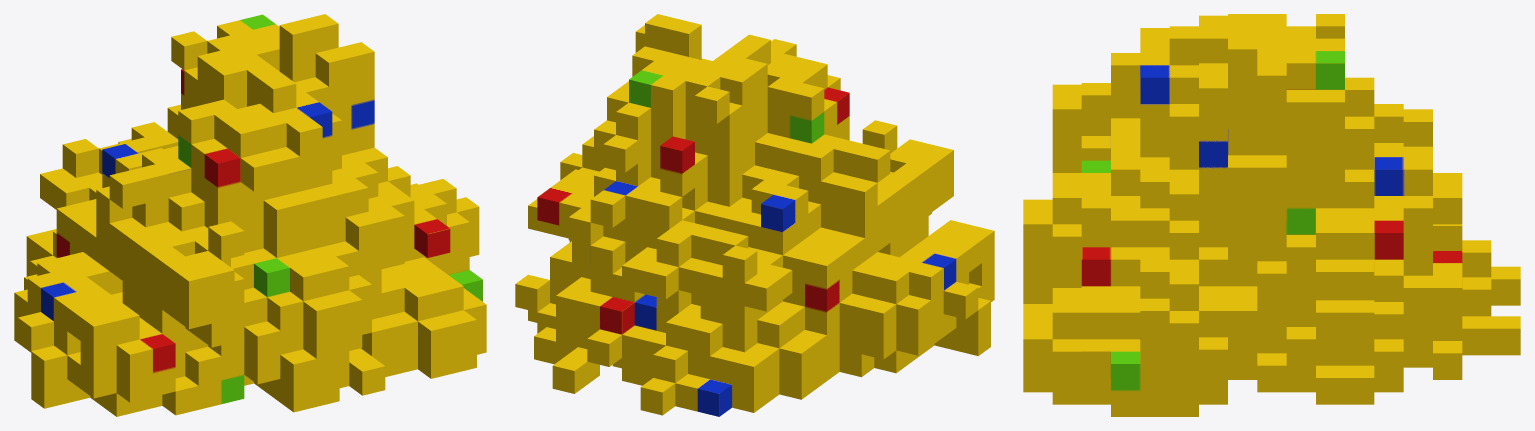
Rendered from Treasure_Big.glb.
3 views of the same model, side by side, from view 1: azimuth 30°, elevation 25°; view 2: azimuth 150°, elevation 25°; view 3: azimuth 270°, elevation 25° (orthographic). The views are drawn at different scales.
Visible parts, largest first — view 1: Treasure_Big; view 2: Treasure_Big; view 3: Treasure_Big.
Boxes of the visible parts, <box> form: Treasure_Big: <box>14,14,486,416</box>; Treasure_Big: <box>515,14,994,416</box>; Treasure_Big: <box>1023,14,1520,416</box>.
Bounding box in the file's own units: 1.9 × 1.2 × 1.7.
Materials: 1 (1 with a texture image).
